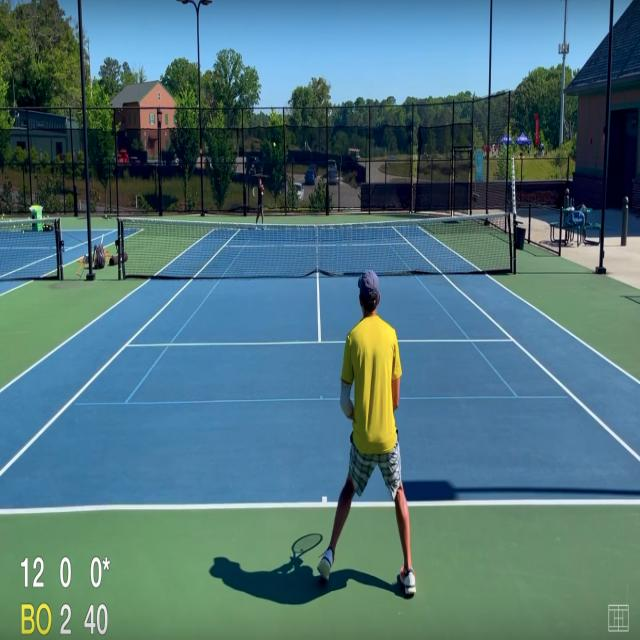ball: (273, 142, 276, 148), (105, 214, 107, 218), (47, 215, 49, 218), (43, 216, 45, 219), (30, 223, 32, 226), (28, 217, 30, 220), (108, 218, 109, 222), (23, 230, 24, 234), (22, 224, 23, 227)
